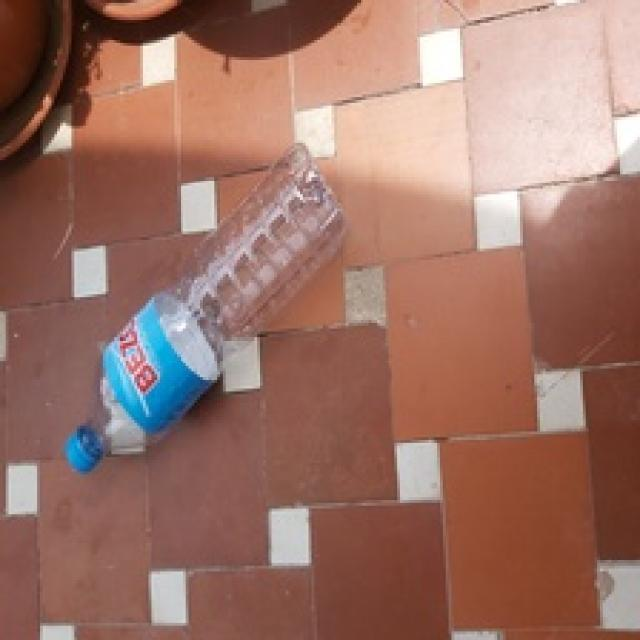Plastic: (65, 140, 346, 473)
